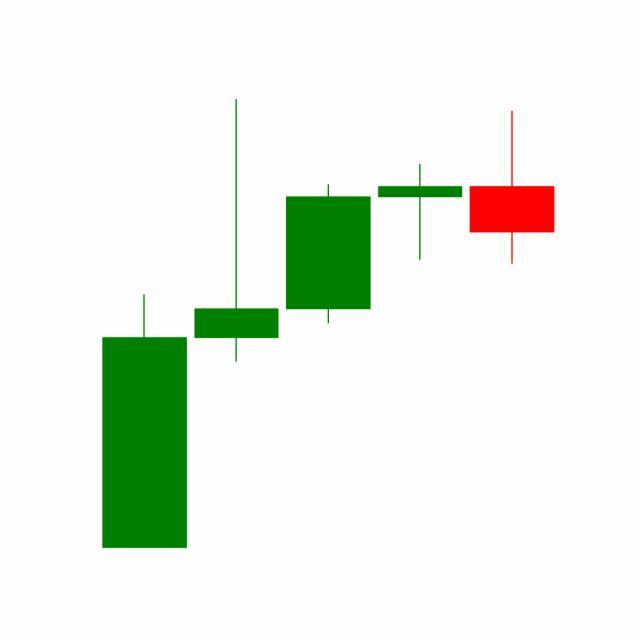Spinning Top: (374, 163, 468, 262)
